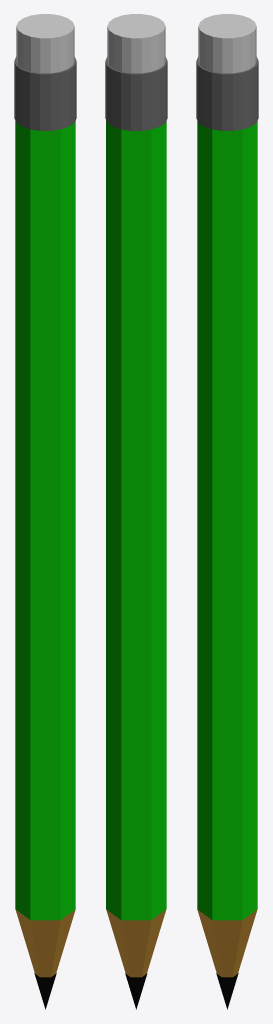
The model's file is pencil_3.obj.
The picture shows the model from 3 angles, left to right: view 1: azimuth 90°, elevation 25°; view 2: azimuth 150°, elevation 25°; view 3: azimuth 270°, elevation 25°; orthographic projection.
Visible parts, largest first — view 1: material_4, material_3, material_2, material_1, material_0; view 2: material_4, material_3, material_2, material_1, material_0; view 3: material_4, material_3, material_2, material_1, material_0.
Boxes of the visible parts, left/top/right/bottom form: material_4: left=15, top=121, right=75, bottom=920; material_3: left=14, top=57, right=76, bottom=130; material_2: left=16, top=14, right=74, bottom=73; material_1: left=15, top=909, right=75, bottom=977; material_0: left=34, top=973, right=56, bottom=1009; material_4: left=106, top=120, right=166, bottom=920; material_3: left=105, top=57, right=167, bottom=130; material_2: left=107, top=14, right=165, bottom=73; material_1: left=106, top=909, right=166, bottom=977; material_0: left=125, top=973, right=147, bottom=1009; material_4: left=197, top=121, right=257, bottom=920; material_3: left=196, top=57, right=258, bottom=130; material_2: left=198, top=14, right=256, bottom=73; material_1: left=197, top=909, right=257, bottom=977; material_0: left=216, top=973, right=238, bottom=1009.
Bounding box in the file's own units: 2.04 × 35.94 × 2.07.
